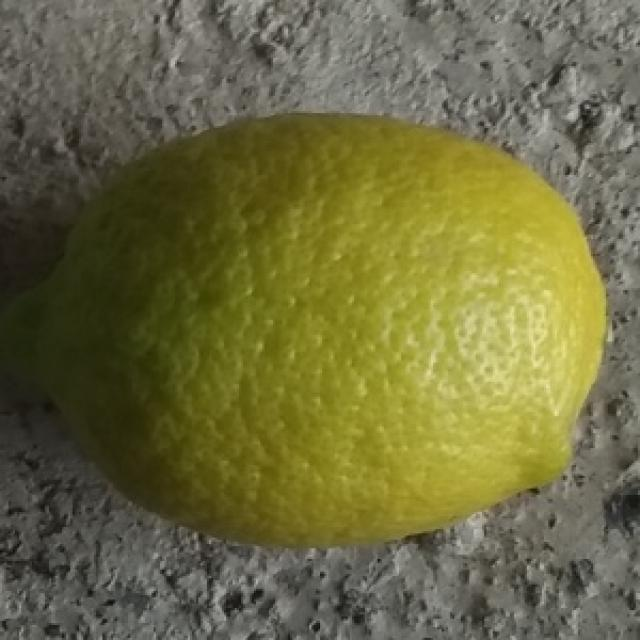Lemon: (0, 107, 610, 551)
